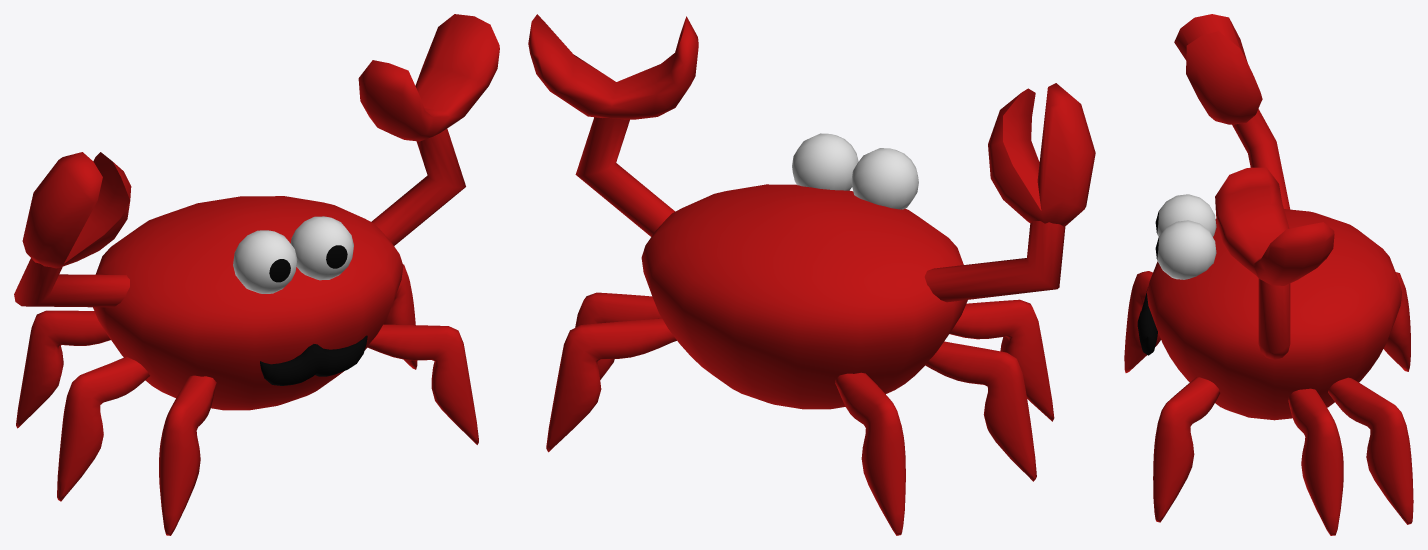
File: 3D_Crab.FBX
3 views of the same model, side by side, from view 1: azimuth 30°, elevation 25°; view 2: azimuth 150°, elevation 25°; view 3: azimuth 270°, elevation 25° (orthographic). The views are drawn at different scales.
Parts seen in each view (by area): view 1: 3D_Crab; view 2: 3D_Crab; view 3: 3D_Crab.
Boxes of the visible parts, bbox=[...] form: 3D_Crab: bbox=[14, 14, 499, 535]; 3D_Crab: bbox=[528, 14, 1095, 535]; 3D_Crab: bbox=[1124, 14, 1413, 535].
Size of the model in its own units: 132 by 92.25 by 71.12.
